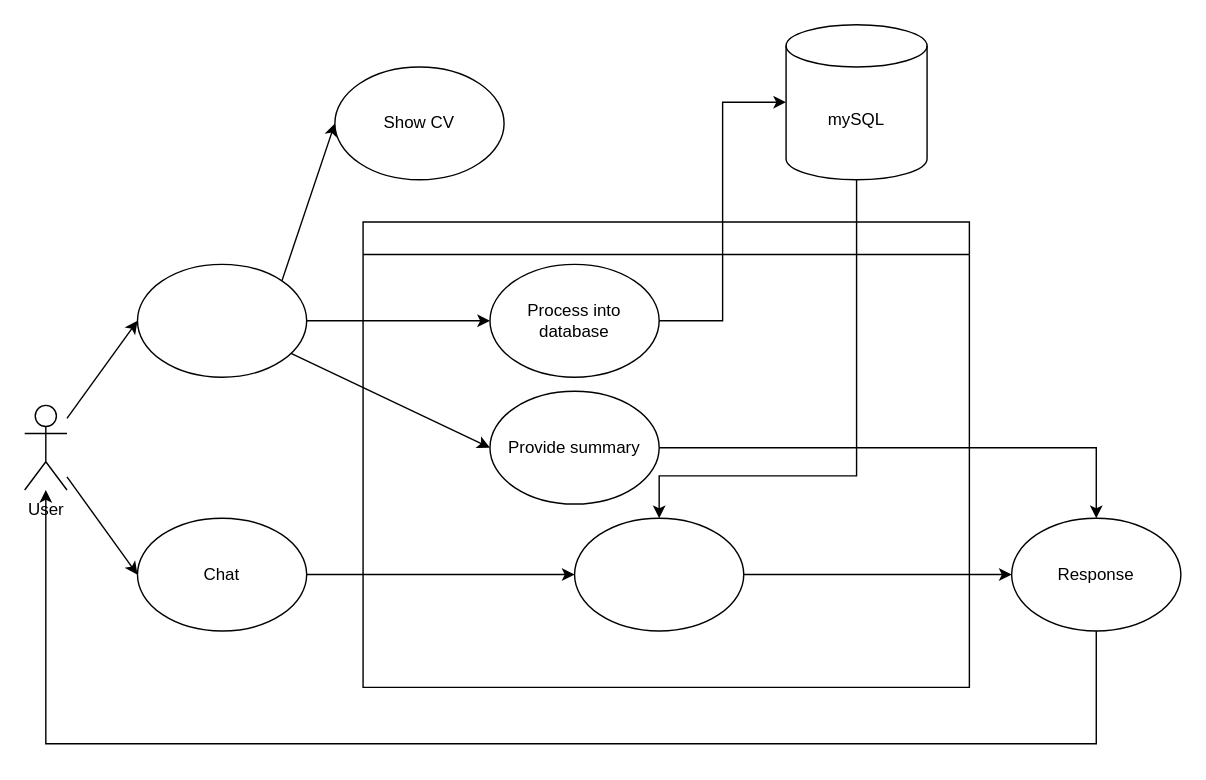
The diagram is 1206 pixels wide and 780 high, and some of its shapes have lost their labels. Each missing label, with the box of its shape:
Chatbot: (362, 221, 969, 687)
LLMs SQL tools: (573, 517, 744, 631)
Upload files: (136, 263, 307, 377)
